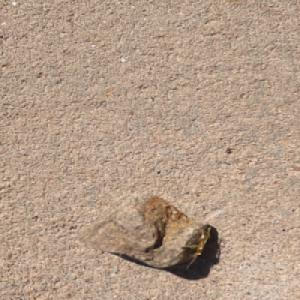Rock: (74, 192, 212, 271)
